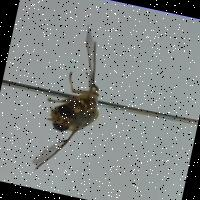Oriental-fruit-fly: (7, 10, 127, 190)
